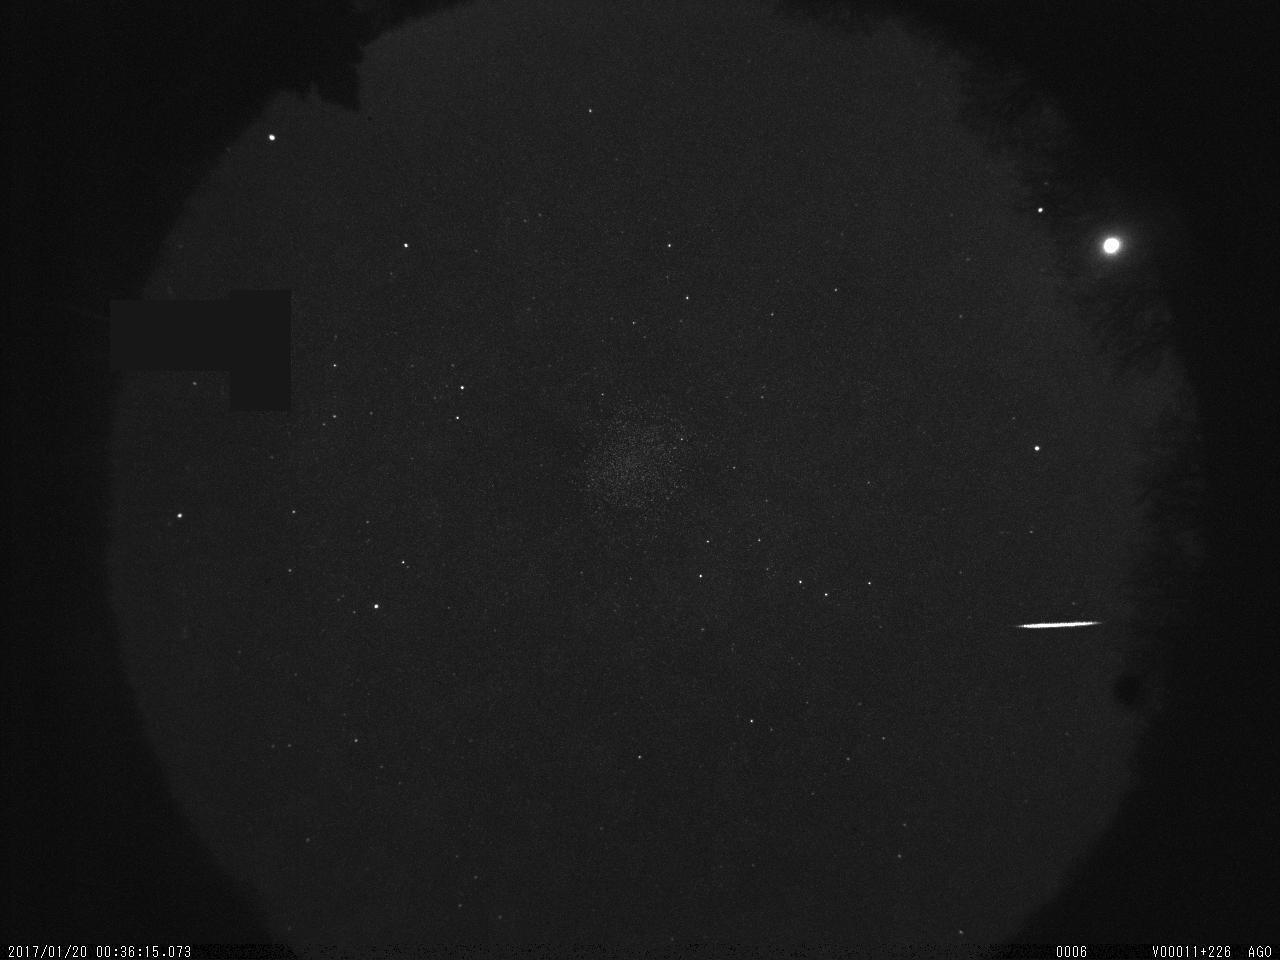Meteor: (1006, 612, 1116, 640)
